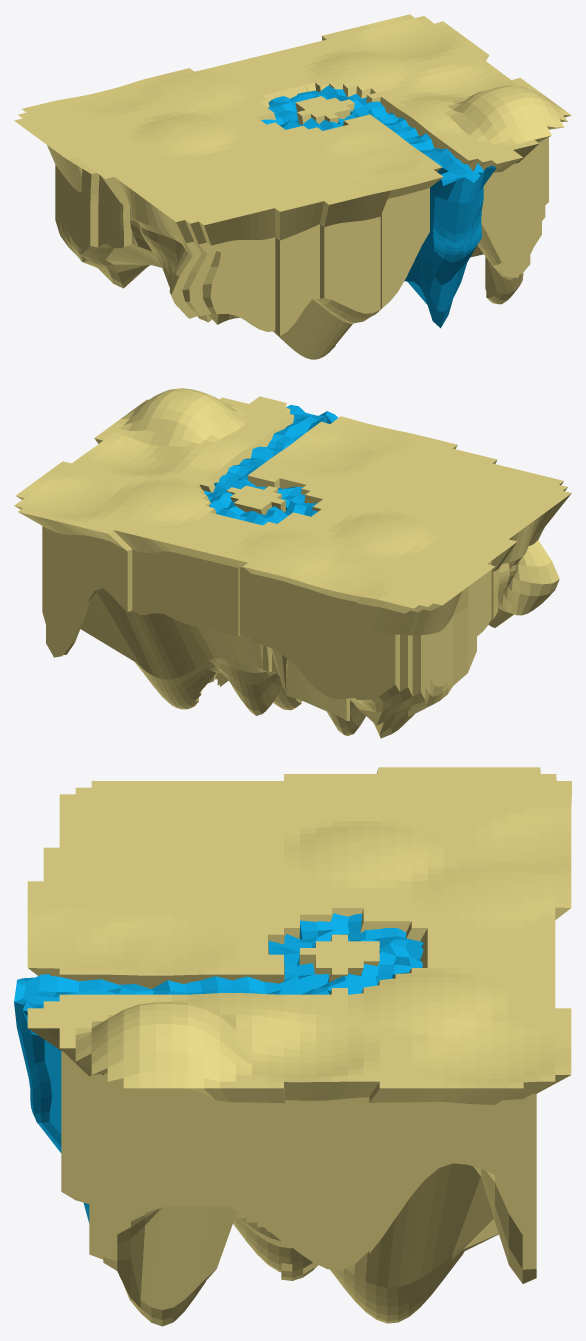
Rendered from ile été en bloc.FBX.
3 views of the same model, one above another, from view 1: azimuth 30°, elevation 25°; view 2: azimuth 150°, elevation 25°; view 3: azimuth 270°, elevation 25° (orthographic). The views are drawn at different scales.
Parts seen in each view (by area): view 1: Ile été, bloc1, bloc2, bloc3; view 2: Ile été, bloc1, bloc3, bloc2; view 3: Ile été, bloc2, bloc1, bloc3.
Part boxes in pixels (x1=…): Ile été: x1=14, y1=14, x2=522, y2=328; bloc1: x1=100, y1=128, x2=390, y2=359; bloc2: x1=481, y1=78, x2=571, y2=304; bloc3: x1=75, y1=67, x2=216, y2=109; Ile été: x1=14, y1=396, x2=511, y2=738; bloc1: x1=312, y1=430, x2=571, y2=627; bloc3: x1=230, y1=550, x2=364, y2=720; bloc2: x1=94, y1=388, x2=248, y2=443; Ile été: x1=14, y1=767, x2=571, y2=1323; bloc2: x1=59, y1=1002, x2=285, y2=1326; bloc1: x1=27, y1=774, x2=315, y2=945; bloc3: x1=475, y1=823, x2=571, y2=921.
Bounding box in the file's own units: 490 × 267 × 360.
